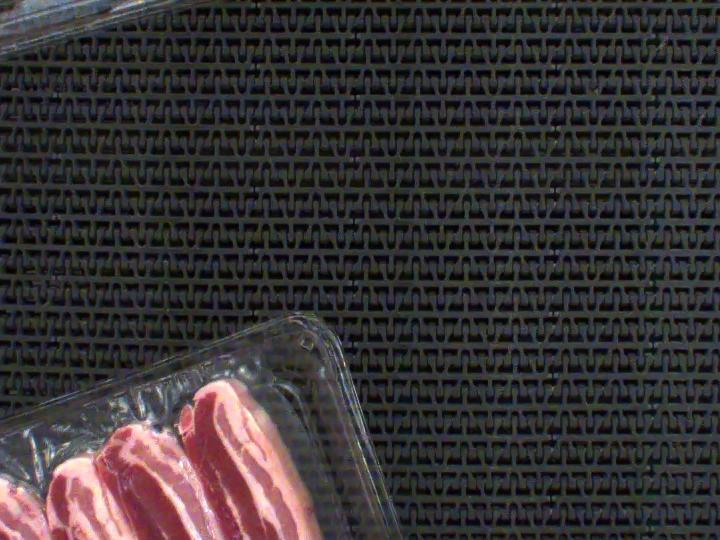unsealed: (0, 345, 389, 540)
